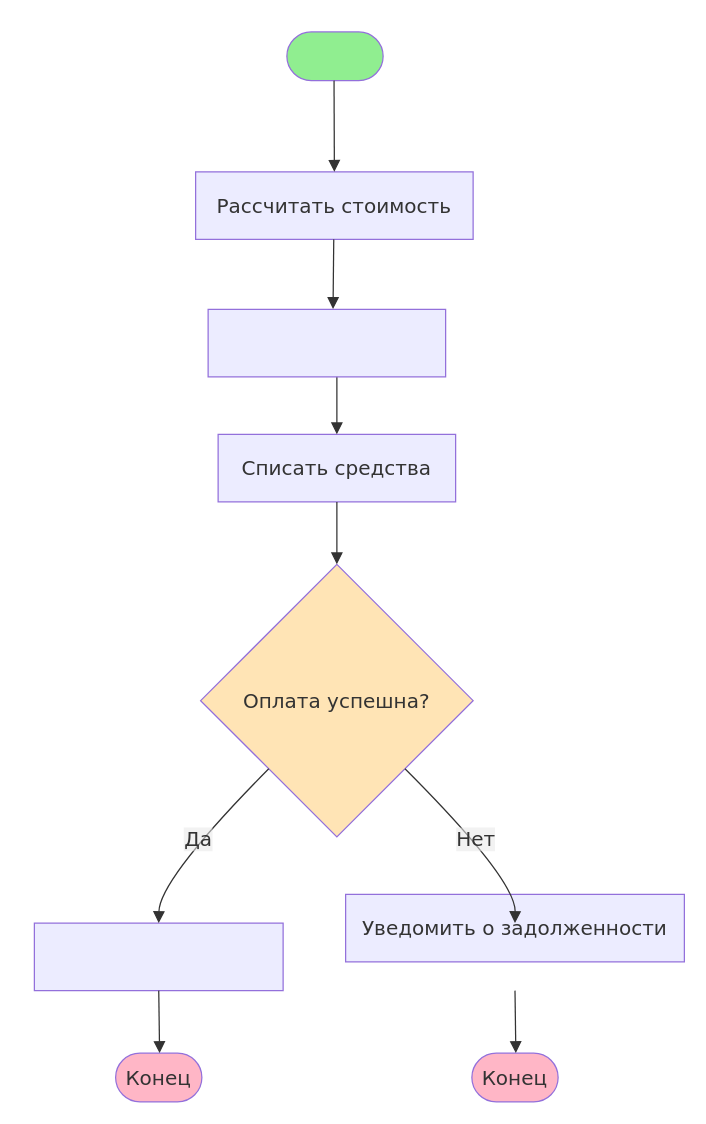
Some shapes in this 706 by 1124 pixel diagram are drawn without their labels. Here are the shapes that lost their labels. From the top down, the box of each, then its label:
(286, 31, 383, 81): Начало
(207, 308, 446, 377): Проверить состояние машины
(33, 922, 283, 991): Сформировать чек
